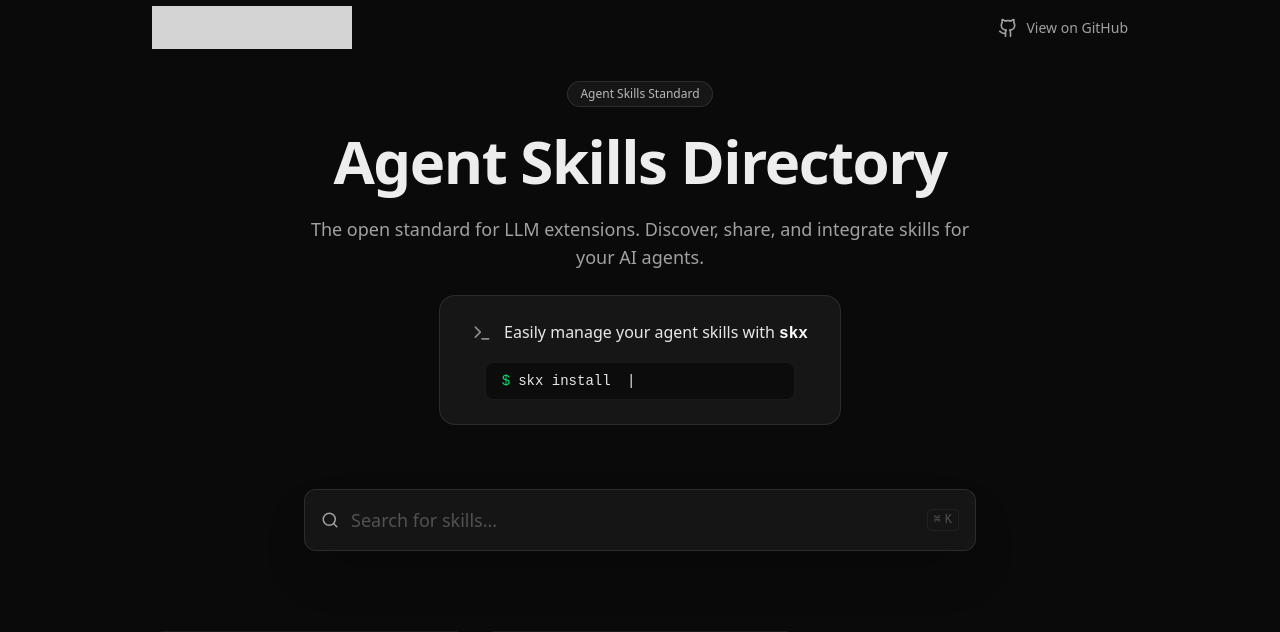
Test: renders title and filters skills
// Search for "Weather"
Type "Weather" into the field with placeholder "Search for skills...". click: [639, 520]
box: [351,506,926,534]
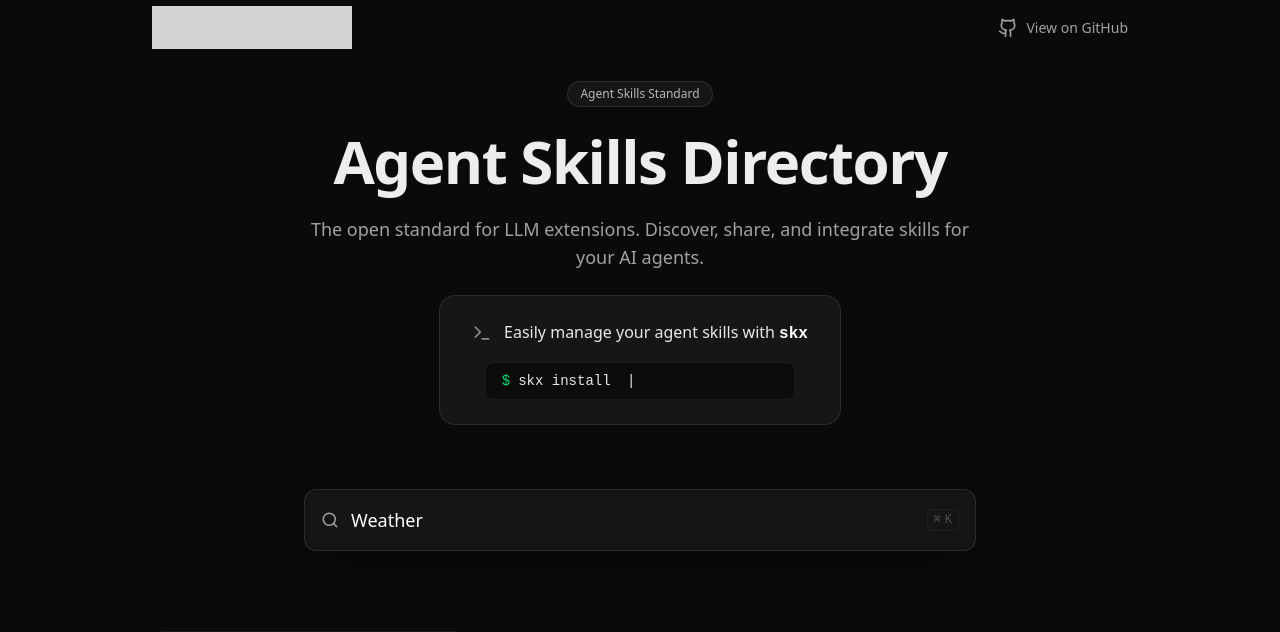
// Search for something that doesn't exist
Replace the text in the field with placeholder "Search for skills..." with "Nonexistent". click: [639, 520]
box: [351,506,926,534]
(page scrolled)
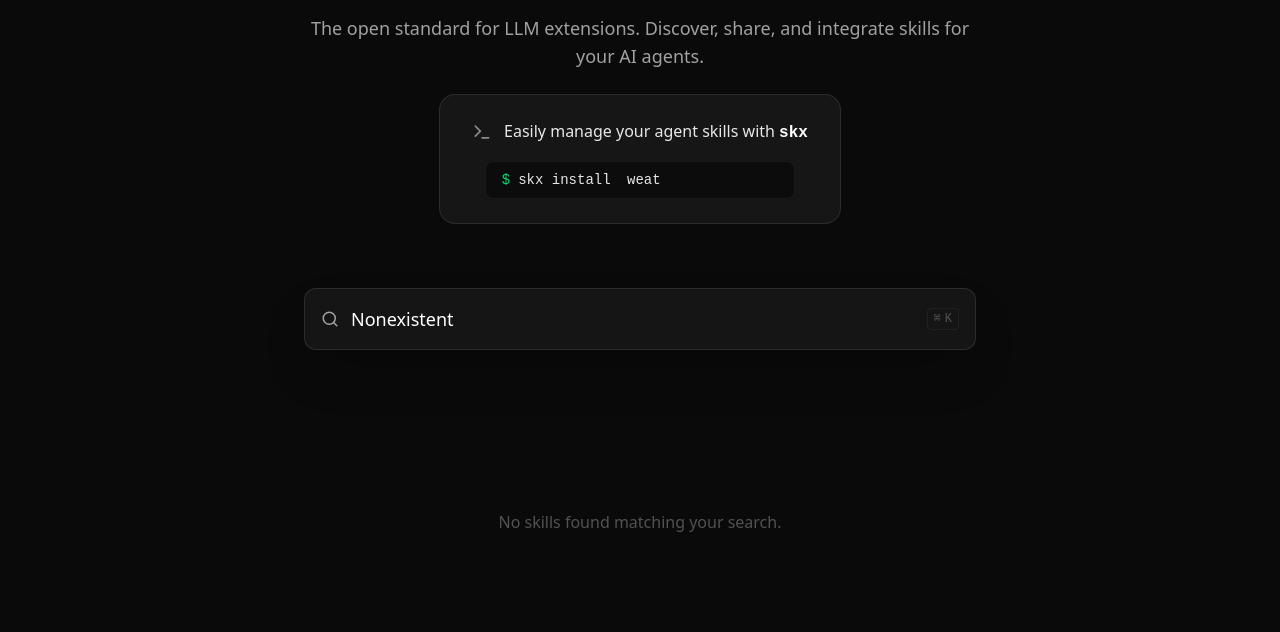
Now the text "No skills found matching your search." is shown, box [498,511,782,533]
